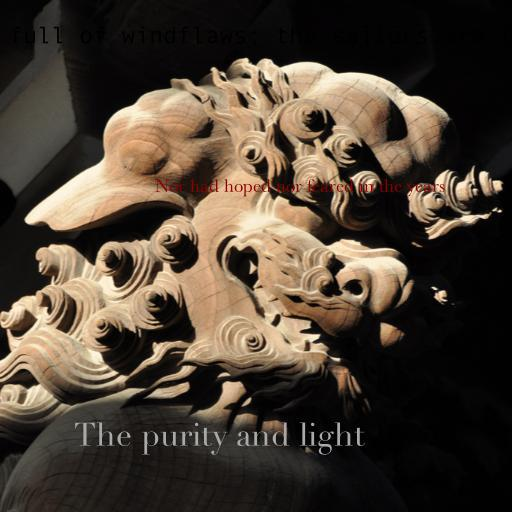Andale Mono: (0, 26, 512, 47)
Baskerville: (155, 179, 445, 197)
Didot: (73, 422, 365, 455)
